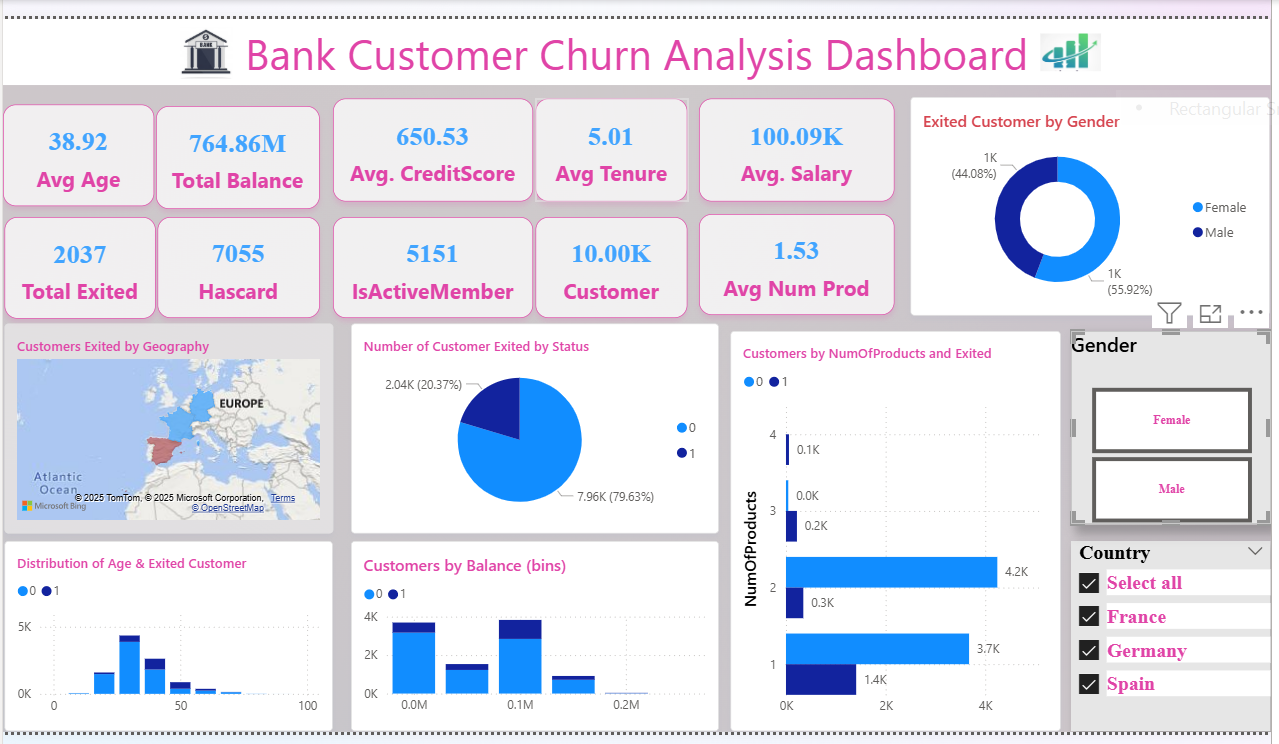

Layout of this report page (visuals, bound fields, positions):
{"tool":"powerbi","page":{"name":"Page 1","canvas":[1280,720],"ordinal":0},"visuals":[{"type":"textbox","box":[0,0,1279.5,66.6],"z":0},{"type":"card","fields":{"Values":["Avg(Churn_Modelling.Age)"]},"box":[0,86.3,152.9,103],"z":2000},{"type":"card","fields":{"Values":["Sum(Churn_Modelling.Balance)"]},"box":[154.9,87.7,165.1,103.8],"z":3000},{"type":"card","fields":{"Values":["Avg(Churn_Modelling.CreditScore)"]},"box":[333.2,80.4,201.7,103.8],"z":4000},{"type":"card","fields":{"Values":["Avg(Churn_Modelling.Tenure)"]},"box":[537.8,80.4,153.5,103.8],"z":5000},{"type":"card","fields":{"Values":["Avg(Churn_Modelling.EstimatedSalary)"]},"box":[703,80.4,197.3,103.8],"z":6000},{"type":"card","fields":{"Values":["Sum(Churn_Modelling.Exited)"]},"box":[1.5,199.9,152.9,103],"z":7000},{"type":"card","fields":{"Values":["Sum(Churn_Modelling.HasCrCard)"]},"box":[156.4,200.2,163.7,102.3],"z":8000},{"type":"card","fields":{"Values":["Sum(Churn_Modelling.IsActiveMember)"]},"box":[333.2,200.2,201.7,102.3],"z":9000},{"type":"card","fields":{"Values":["Count(Churn_Modelling.CustomerId)"]},"box":[537.8,200.2,153.5,102.3],"z":10000},{"type":"card","fields":{"Values":["Avg(Churn_Modelling.NumOfProducts)"]},"box":[703,197.3,197.3,102.3],"z":11000},{"type":"slicer","title":"Gender","fields":{"Values":["Churn_Modelling.Gender"]},"box":[1078.1,315,201.4,195.3],"z":12000},{"type":"slicer","fields":{"Values":["Churn_Modelling.Geography"]},"box":[1078.1,526.9,201.4,192.3],"z":13000},{"type":"donutChart","title":"Exited Customer by Gender","fields":{"Category":["Churn_Modelling.Gender"],"Y":["Sum(Churn_Modelling.Exited)"]},"box":[916.3,78.9,362.4,220.7],"z":14000},{"type":"filledMap","title":"Customers Exited by Geography","fields":{"Category":["Churn_Modelling.Geography"]},"box":[1.5,306.9,331.8,211.9],"z":15000},{"type":"columnChart","title":"Distribution of Age & Exited Customer","fields":{"Category":["Churn_Modelling.Age (bins)"],"Y":["CountNonNull(Churn_Modelling.CustomerId)"],"Series":["Churn_Modelling.Exited"]},"box":[1.5,526.9,331.6,192.3],"z":15002},{"type":"clusteredBarChart","title":" Customers by NumOfProducts and Exited","fields":{"Category":["Churn_Modelling.NumOfProducts"],"Y":["CountNonNull(Churn_Modelling.CustomerId)"],"Series":["Churn_Modelling.Exited"]},"box":[734.4,315,333.1,404.3],"z":15003},{"type":"pieChart","title":"Number of Customer Exited by Status","fields":{"Category":["Churn_Modelling.Exited"],"Y":["CountNonNull(Churn_Modelling.CustomerId)"]},"box":[350.8,306.9,371.2,211.9],"z":15004},{"type":"columnChart","title":"Customers by Balance (bins)","fields":{"Category":["Churn_Modelling.Balance (bins)"],"Y":["Count(Churn_Modelling.CustomerId)"],"Series":["Churn_Modelling.Exited"]},"box":[351,527,371,192],"z":15005},{"type":"image","box":[172.5,0,64.3,67.2],"z":15006},{"type":"image","box":[1042,0,71.6,67.2],"z":15007}]}

Visuals, with their boxes in screenshot pixels (x1, y1, x2, y2):
textbox: select_region(3, 17, 1264, 82)
card - Avg(Churn_Modelling.Age): select_region(3, 102, 154, 203)
card - Sum(Churn_Modelling.Balance): select_region(156, 103, 319, 205)
card - Avg(Churn_Modelling.CreditScore): select_region(332, 96, 530, 198)
card - Avg(Churn_Modelling.Tenure): select_region(533, 96, 685, 198)
card - Avg(Churn_Modelling.EstimatedSalary): select_region(696, 96, 890, 198)
card - Sum(Churn_Modelling.Exited): select_region(5, 214, 155, 315)
card - Sum(Churn_Modelling.HasCrCard): select_region(157, 214, 319, 315)
card - Sum(Churn_Modelling.IsActiveMember): select_region(332, 214, 530, 315)
card - Count(Churn_Modelling.CustomerId): select_region(533, 214, 685, 315)
card - Avg(Churn_Modelling.NumOfProducts): select_region(696, 211, 890, 312)
"Gender" slicer: select_region(1066, 327, 1264, 520)
slicer - Churn_Modelling.Geography: select_region(1066, 536, 1264, 725)
"Exited Customer by Gender" donutChart: select_region(906, 94, 1263, 312)
"Customers Exited by Geography" filledMap: select_region(5, 319, 332, 528)
"Distribution of Age & Exited Customer" columnChart: select_region(5, 536, 332, 725)
" Customers by NumOfProducts and Exited" clusteredBarChart: select_region(727, 327, 1055, 725)
"Number of Customer Exited by Status" pieChart: select_region(349, 319, 715, 528)
"Customers by Balance (bins)" columnChart: select_region(349, 536, 715, 725)
image: select_region(173, 17, 237, 83)
image: select_region(1030, 17, 1101, 83)
